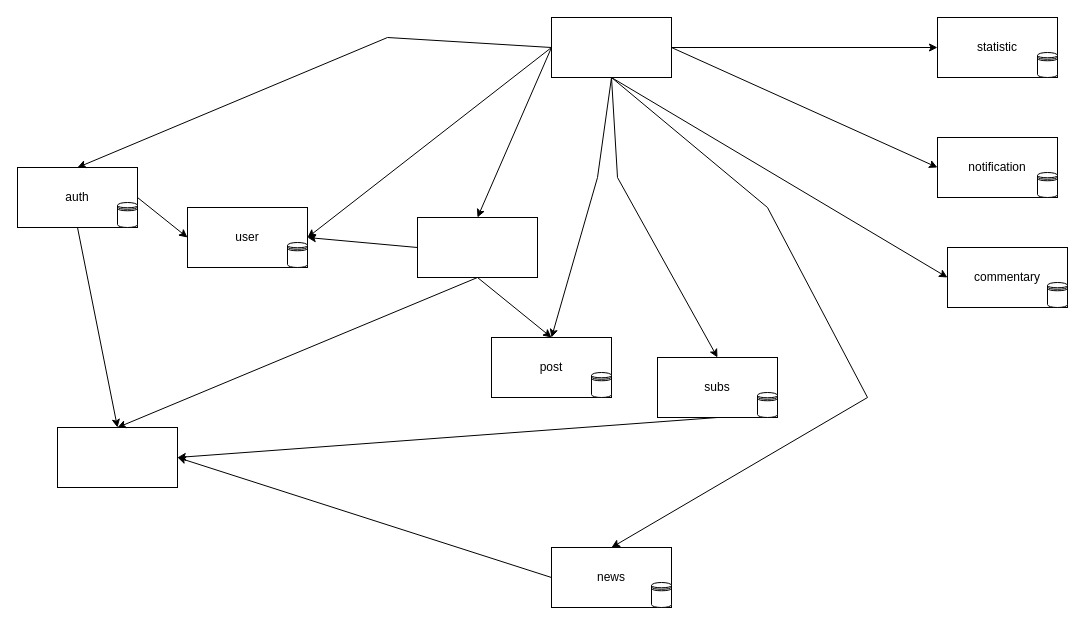
Some shapes in this 1085 by 625 pixel diagram are drawn without their labels. The shapes that lost their labels are listed below. From the top down, each one's centre as x and y in pixels, then its label:
point (611, 47): api-gateway
point (477, 247): admin
point (117, 457): email
